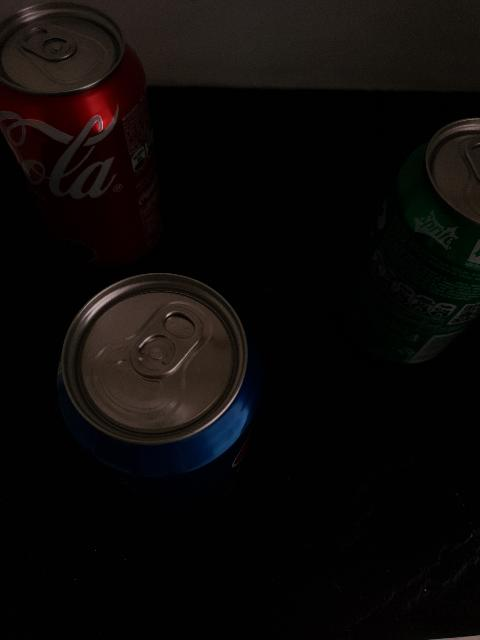coke: (0, 7, 154, 273)
pepsi: (45, 272, 264, 490)
sprite: (368, 111, 480, 366)
